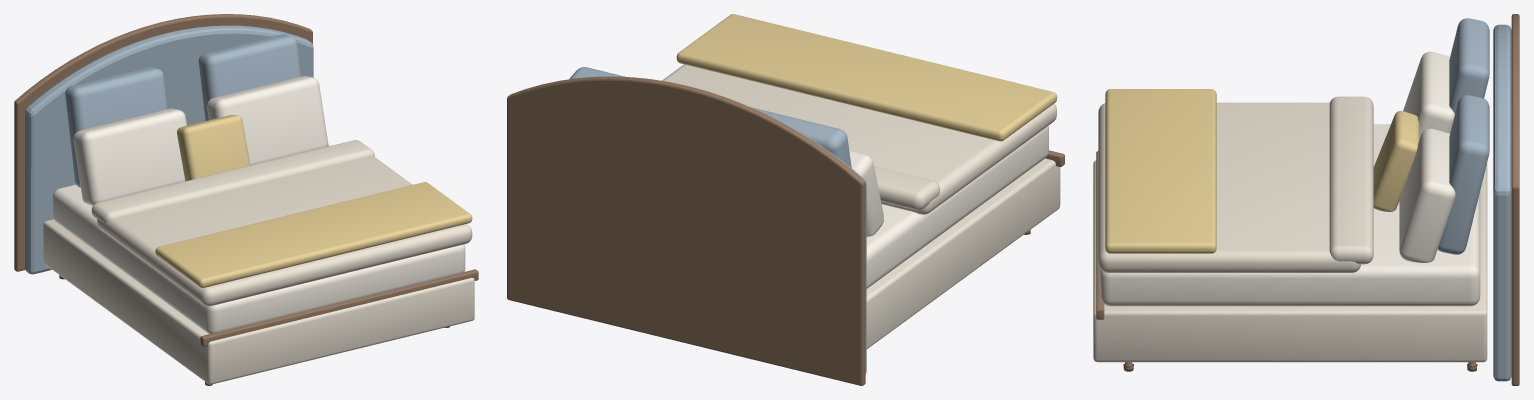
File: bed_queen.glb
The picture shows the model from 3 angles, left to right: view 1: azimuth 30°, elevation 25°; view 2: azimuth 150°, elevation 25°; view 3: azimuth 270°, elevation 25°; orthographic projection. The views are drawn at different scales.
Visible parts, largest first — view 1: base, duvet, throw, headboard, mattress, pillow0, pillow1, hbframe, fold, euro0, euro1, cush (+1 smaller); view 2: hbframe, throw, duvet, base, mattress, fold, euro0, pillow0, headboard; view 3: base, duvet, throw, mattress, fold, headboard, pillow1, euro1, hbframe, cush, euro0, pillow0 (+1 smaller).
Part boxes in pixels (x1,y1,x2,y2): base: (43,219,474,384); duvet: (97,156,472,306); throw: (155,182,472,287); headboard: (24,25,313,274); mattress: (52,144,465,333); pillow0: (73,108,186,205); pillow1: (207,76,328,165); hbframe: (14,14,312,271); fold: (91,140,374,223); euro0: (65,67,167,187); euro1: (198,34,301,120); cush: (177,115,250,181); hbframe: (507,76,865,385); throw: (676,14,1057,141); duvet: (662,64,1056,214); base: (866,158,1060,348); mattress: (866,126,1048,288); fold: (874,166,939,210); euro0: (750,107,851,167); pillow0: (849,150,883,236); headboard: (766,114,866,373); base: (1093,160,1487,362); duvet: (1098,102,1360,272); throw: (1105,89,1216,253); mattress: (1100,124,1480,306); fold: (1329,96,1373,264); headboard: (1493,24,1511,381); pillow1: (1399,128,1455,262); euro1: (1437,95,1489,254); hbframe: (1511,14,1519,385); cush: (1373,111,1419,211); euro0: (1449,18,1489,113); pillow0: (1403,51,1454,138).
Size of the model in its own units: 2 by 1.37 by 2.11.
